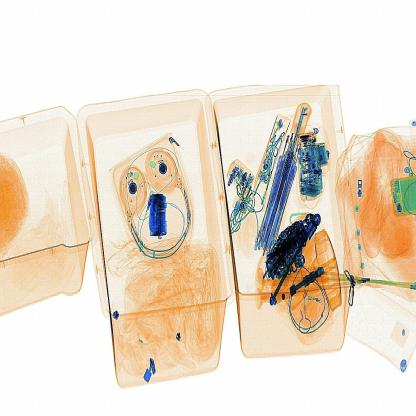scissors: (141, 180, 184, 250)
